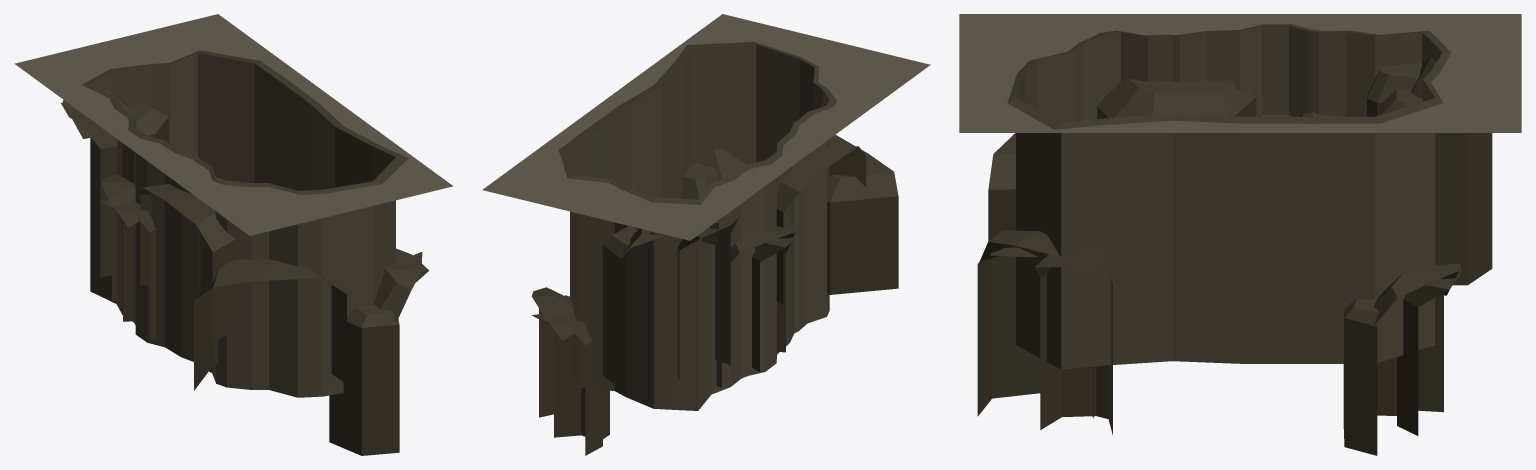
File: SF_Env_Crevice_02.fbx
3 views of the same model, side by side, from view 1: azimuth 30°, elevation 25°; view 2: azimuth 150°, elevation 25°; view 3: azimuth 270°, elevation 25° (orthographic). The views are drawn at different scales.
Parts seen in each view (by area): view 1: SF_Env_Crevice_02; view 2: SF_Env_Crevice_02; view 3: SF_Env_Crevice_02.
Boxes of the visible parts, x1,y1,x2,y2 form: SF_Env_Crevice_02: (14,14,452,455); SF_Env_Crevice_02: (482,14,930,455); SF_Env_Crevice_02: (959,14,1521,455).
Size of the model in its own units: 26.58 by 30.19 by 47.77.
